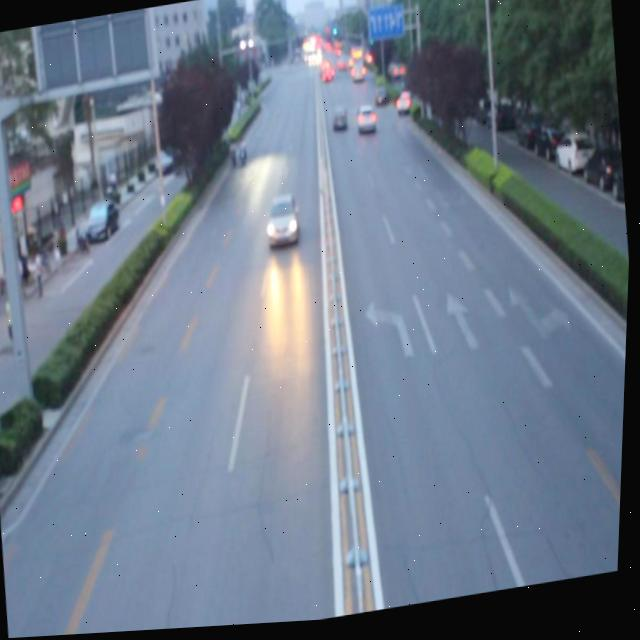car: (263, 196, 303, 249)
